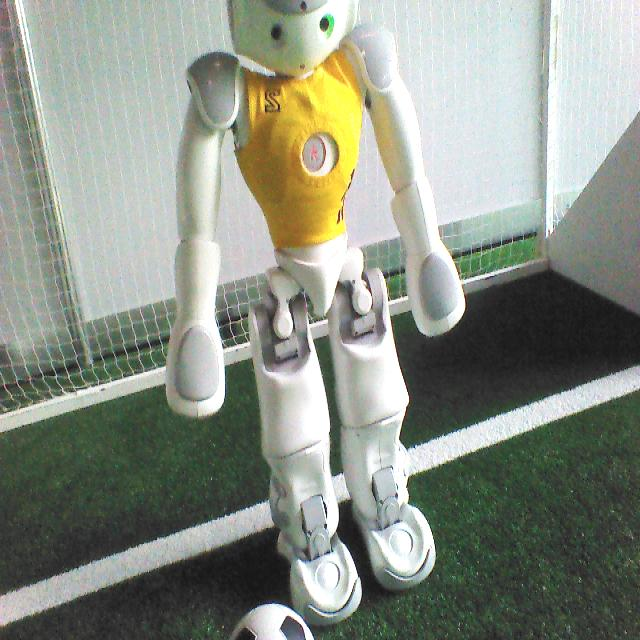ball: (226, 604, 316, 640)
